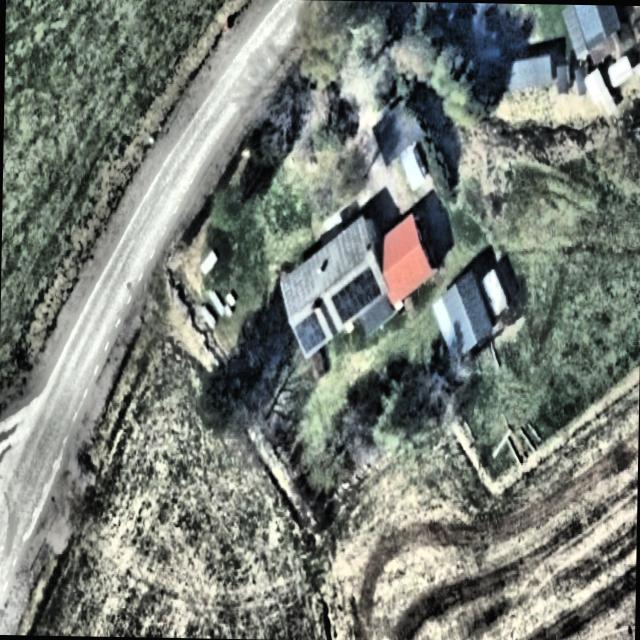roof_pv: (332, 264, 383, 322), (294, 308, 328, 354)
